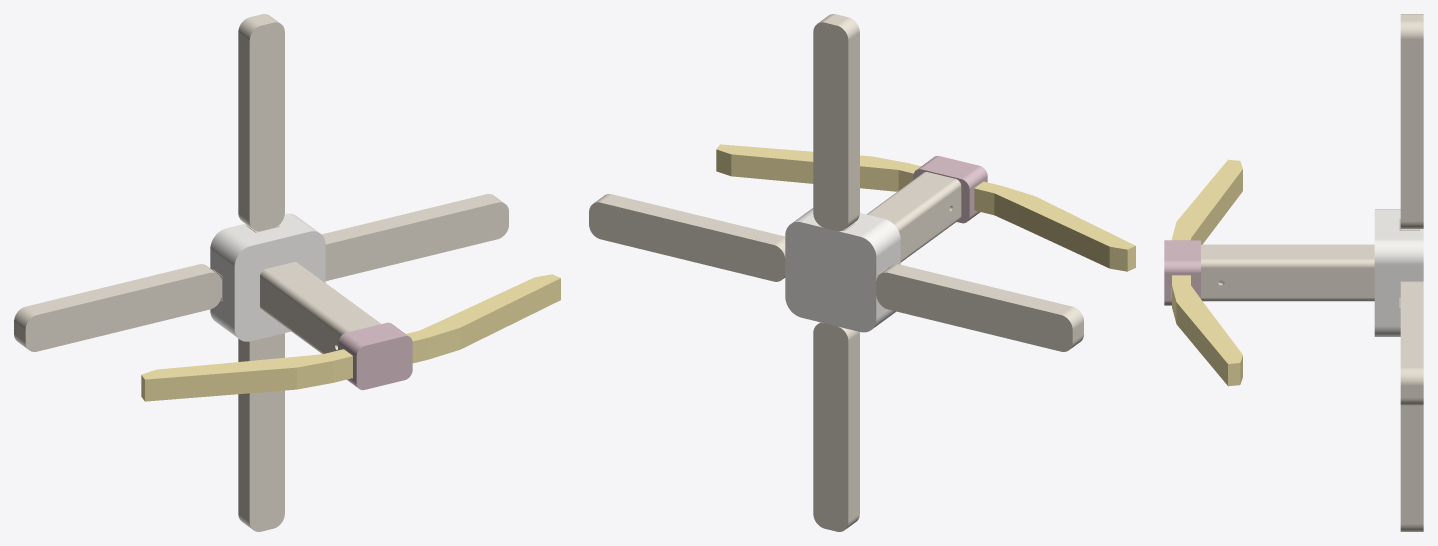
The model's file is tabletop-valet.glb.
The picture shows the model from 3 angles, left to right: view 1: azimuth 30°, elevation 25°; view 2: azimuth 150°, elevation 25°; view 3: azimuth 270°, elevation 25°; orthographic projection.
Visible parts, largest first — view 1: valet-base-leg__3, valet-base-leg__4, valet-base-leg__2, valet-base-hub__1, valet-base-leg__5, valet-shoulder-arm__9, valet-column-160__6, valet-shoulder-arm__8, valet-shoulder-hub__7; view 2: valet-base-hub__1, valet-base-leg__3, valet-base-leg__4, valet-base-leg__5, valet-base-leg__2, valet-shoulder-arm__9, valet-shoulder-arm__8, valet-column-160__6, valet-shoulder-hub__7; view 3: valet-column-160__6, valet-base-leg__3, valet-base-hub__1, valet-shoulder-arm__8, valet-base-leg__5, valet-base-leg__2, valet-shoulder-arm__9, valet-shoulder-hub__7.
Boxes of the visible parts, left/top/right/bottom form: valet-base-leg__3: left=238, top=14, right=284, bottom=232; valet-base-leg__4: left=14, top=264, right=222, bottom=351; valet-base-leg__2: left=322, top=194, right=508, bottom=280; valet-base-hub__1: left=210, top=213, right=325, bottom=341; valet-base-leg__5: left=238, top=333, right=284, bottom=531; valet-shoulder-arm__9: left=141, top=349, right=352, bottom=401; valet-column-160__6: left=260, top=262, right=380, bottom=353; valet-shoulder-arm__8: left=406, top=274, right=560, bottom=363; valet-shoulder-hub__7: left=338, top=322, right=412, bottom=389; valet-base-hub__1: left=785, top=208, right=900, bottom=332; valet-base-leg__3: left=813, top=14, right=859, bottom=231; valet-base-leg__4: left=876, top=264, right=1083, bottom=351; valet-base-leg__5: left=813, top=322, right=859, bottom=531; valet-base-leg__2: left=589, top=194, right=785, bottom=281; valet-shoulder-arm__9: left=974, top=181, right=1135, bottom=271; valet-shoulder-arm__8: left=716, top=144, right=920, bottom=191; valet-column-160__6: left=866, top=172, right=961, bottom=262; valet-shoulder-hub__7: left=913, top=156, right=987, bottom=223; valet-column-160__6: left=1201, top=244, right=1374, bottom=301; valet-base-leg__3: left=1400, top=14, right=1423, bottom=230; valet-base-hub__1: left=1374, top=209, right=1423, bottom=336; valet-shoulder-arm__8: left=1172, top=275, right=1242, bottom=386; valet-base-leg__5: left=1400, top=406, right=1423, bottom=531; valet-base-leg__2: left=1400, top=281, right=1423, bottom=405; valet-shoulder-arm__9: left=1172, top=159, right=1242, bottom=244; valet-shoulder-hub__7: left=1164, top=240, right=1223, bottom=305.
Size of the model in its own units: 0.414 by 0.414 by 0.191.
